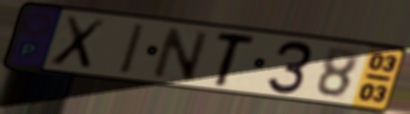3: (264, 39, 316, 96)
8: (314, 46, 361, 100)
I: (118, 21, 149, 77)
N: (150, 24, 212, 83)
T: (212, 32, 260, 88)
X: (46, 14, 109, 72)
